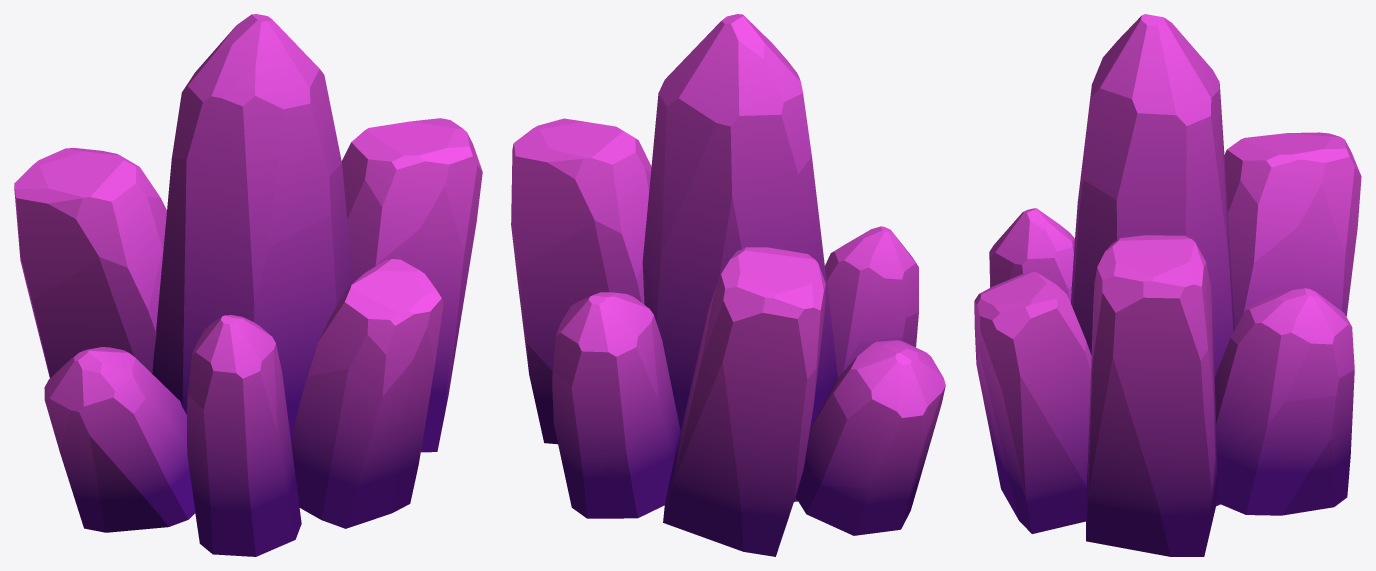
File: Crystal01.fbx
The picture shows the model from 3 angles, left to right: view 1: azimuth 30°, elevation 25°; view 2: azimuth 150°, elevation 25°; view 3: azimuth 270°, elevation 25°; orthographic projection. The views are drawn at different scales.
Parts seen in each view (by area): view 1: LOD0; view 2: LOD0; view 3: LOD0.
Boxes of the visible parts, x1=… form: LOD0: x1=14, y1=14, x2=482, y2=556; LOD0: x1=511, y1=14, x2=945, y2=556; LOD0: x1=974, y1=14, x2=1361, y2=556.
Size of what is drawn, in the model's own units: 112 by 89.88 by 123.
